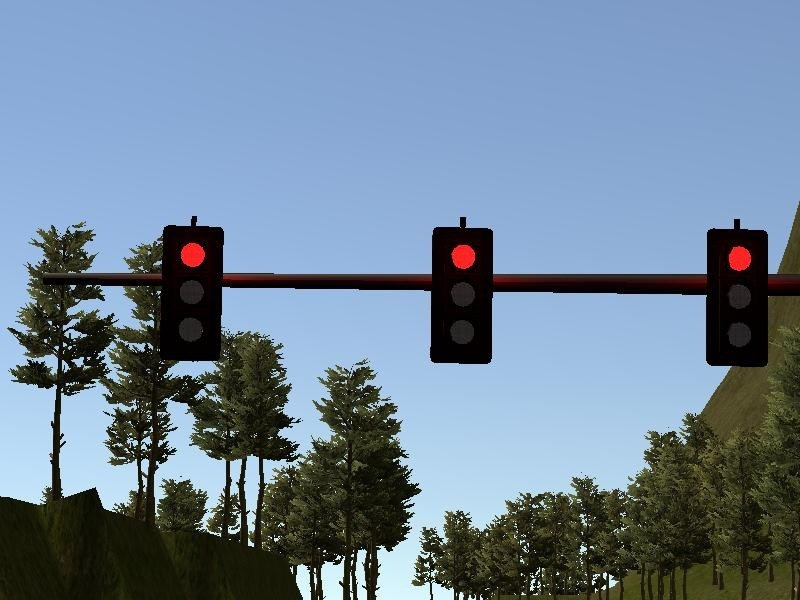Red: (704, 226, 771, 371), (429, 225, 494, 365), (160, 222, 223, 366)
